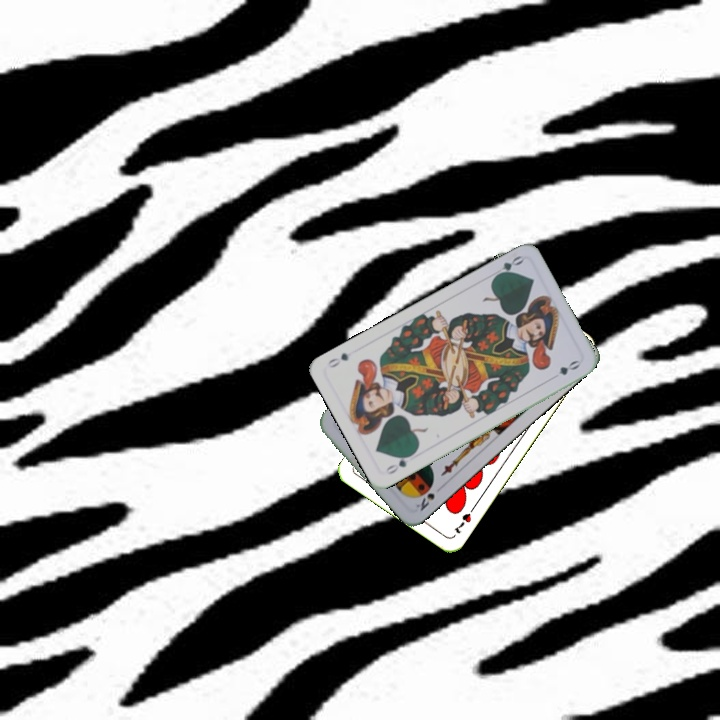GO: (487, 251, 526, 281), (381, 449, 417, 477)
H7: (449, 503, 477, 536)
SK: (412, 489, 437, 514)
